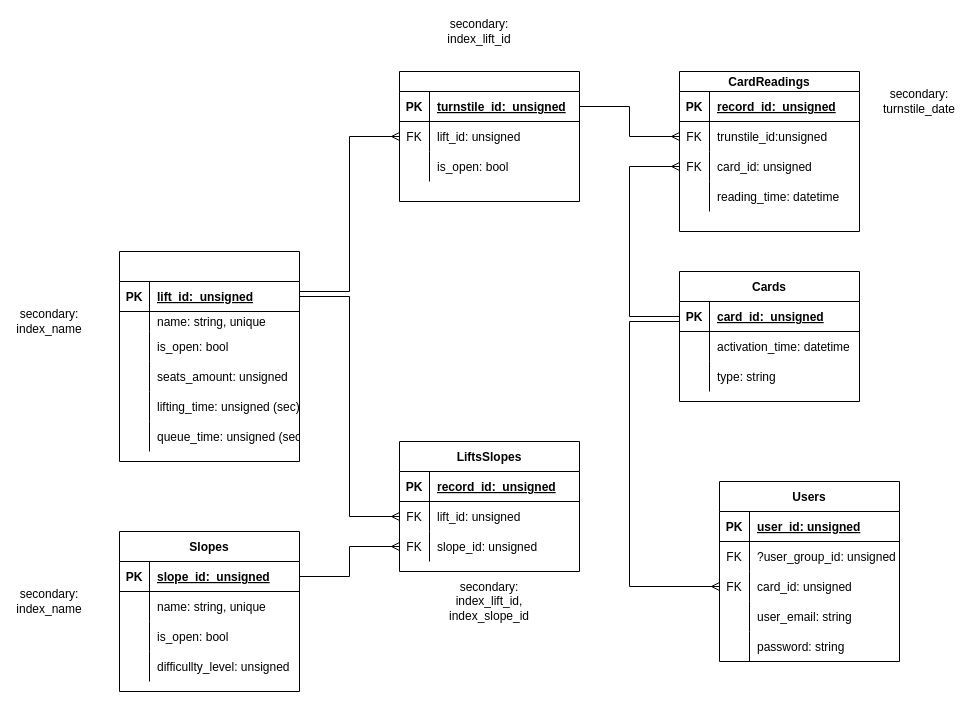
The diagram is 973 pixels wide and 709 high, and some of its shapes have lost their labels. The box of each missing label's shape, as (x1, y1, x2, y2) in pixels:
Lifts: (118, 250, 300, 462)
Turnstiles: (398, 70, 580, 202)
